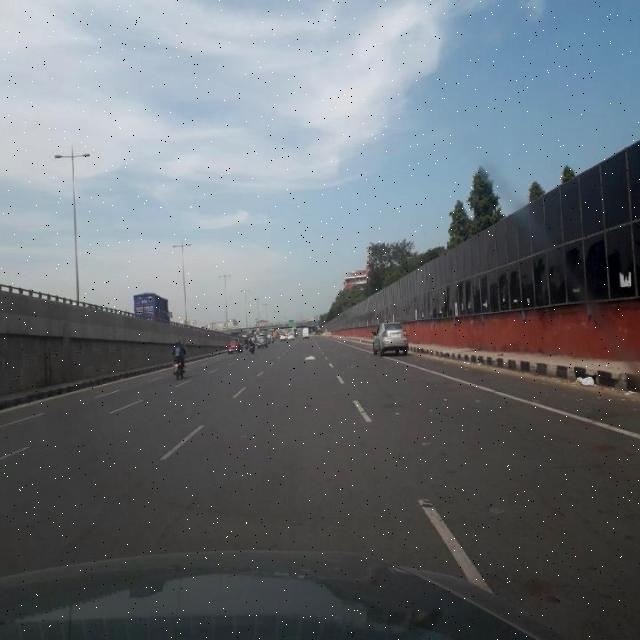D00: (144, 495, 208, 555)
